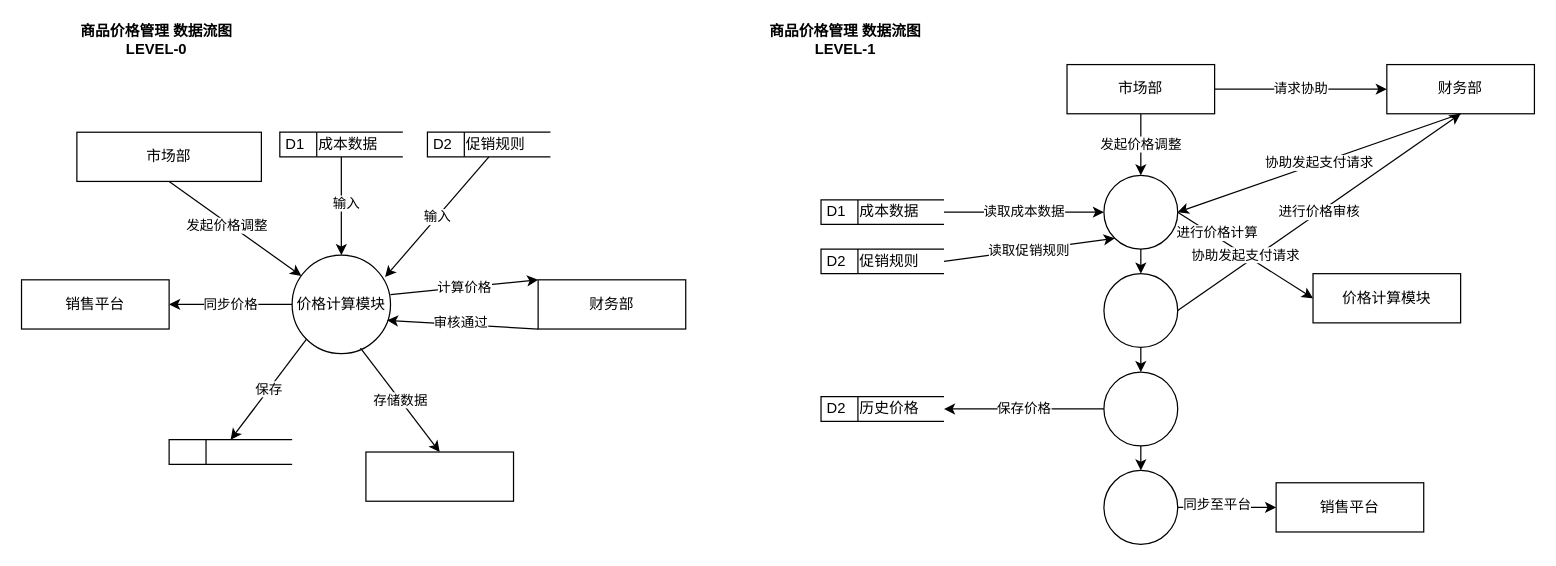
Image size: 1556x566. Some labels were removed from this diagram. Each missing label, with the box of its shape:
1.1 计算价格: (1103, 174, 1178, 249)
1.2 审核价格: (1103, 272, 1178, 347)
1.3 存储数据: (1103, 371, 1178, 446)
1.4 同步价格: (1103, 469, 1178, 544)
D3 历史价格: (168, 438, 292, 464)
价格数据库: (365, 451, 514, 501)
